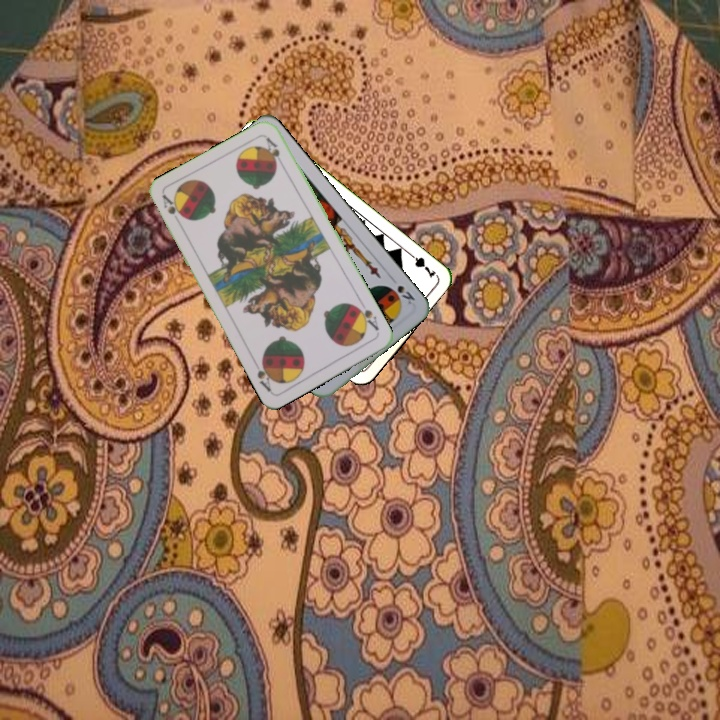G7: (404, 248, 438, 281)
SA: (351, 301, 382, 334), (158, 191, 186, 221)
SK: (386, 273, 418, 307)
